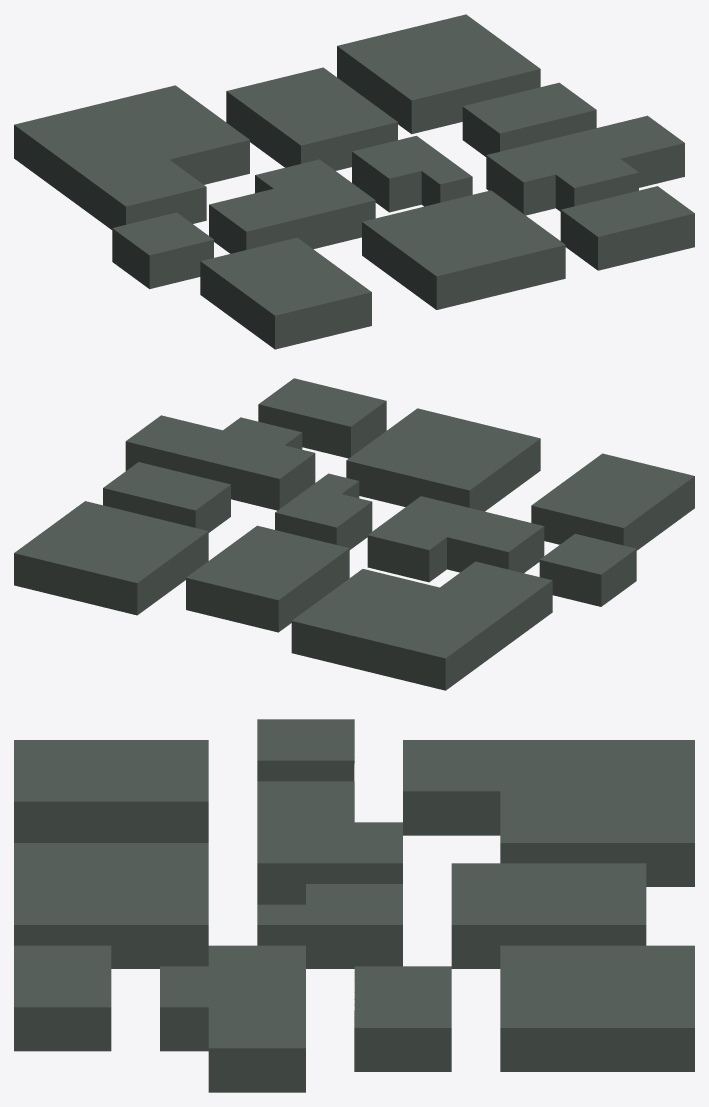
File: StonePath.gltf
3 views of the same model, one above another, from view 1: azimuth 30°, elevation 25°; view 2: azimuth 150°, elevation 25°; view 3: azimuth 270°, elevation 25° (orthographic). The views are drawn at different scales.
Visible parts, largest first — view 1: cuboid (×11); view 2: cuboid (×11); view 3: cuboid (×11).
Part boxes in pixels (box(x1,y1,x2,y2)): cuboid (×11): box(14, 14, 694, 349); cuboid (×11): box(14, 378, 694, 690); cuboid (×11): box(14, 719, 694, 1092).
Bounding box in the file's own units: 1 × 0.0625 × 0.875.
1 material, 1 textured.
